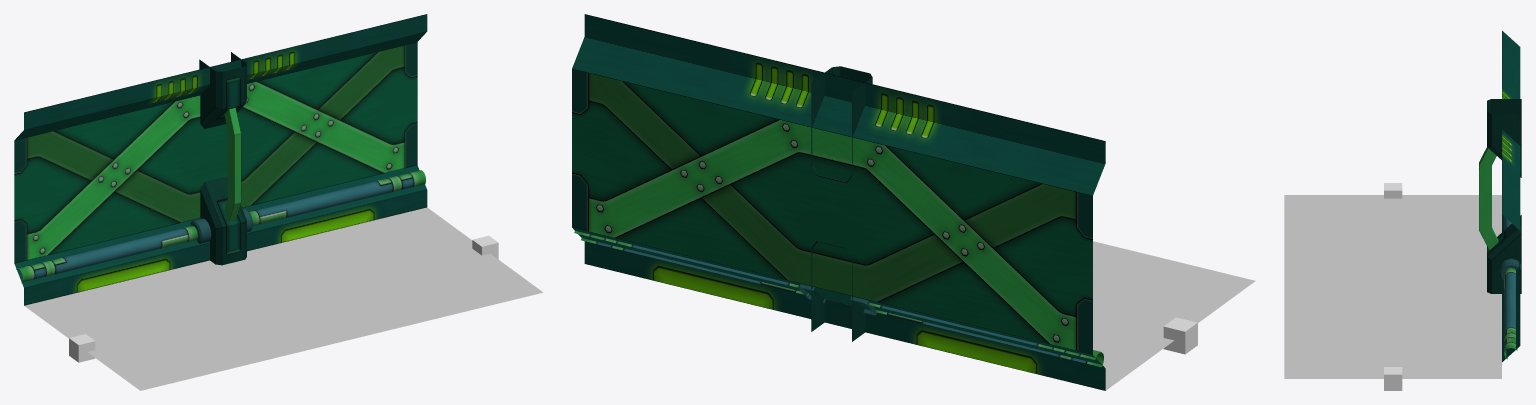
The model's file is sidescroller.bg01.fbx.
3 renders of one model, left to right at view 1: azimuth 30°, elevation 25°; view 2: azimuth 150°, elevation 25°; view 3: azimuth 270°, elevation 25°, orthographic. The views are drawn at different scales.
Parts seen in each view (by area): view 1: MESH sidescroller.bg01, POINT roadStart, POINT roadEnd; view 2: MESH sidescroller.bg01, POINT roadStart; view 3: MESH sidescroller.bg01, POINT roadEnd, POINT roadStart.
Boxes of the visible parts, left/top/right/bottom form: MESH sidescroller.bg01: left=14, top=14, right=543, bottom=390; POINT roadStart: left=69, top=334, right=95, bottom=362; POINT roadEnd: left=472, top=235, right=498, bottom=259; MESH sidescroller.bg01: left=572, top=14, right=1255, bottom=390; POINT roadStart: left=1163, top=317, right=1197, bottom=354; MESH sidescroller.bg01: left=1284, top=30, right=1521, bottom=378; POINT roadEnd: left=1384, top=367, right=1402, bottom=390; POINT roadStart: left=1384, top=183, right=1402, bottom=198.
Bounding box in the file's own units: 250 × 115 × 131.
